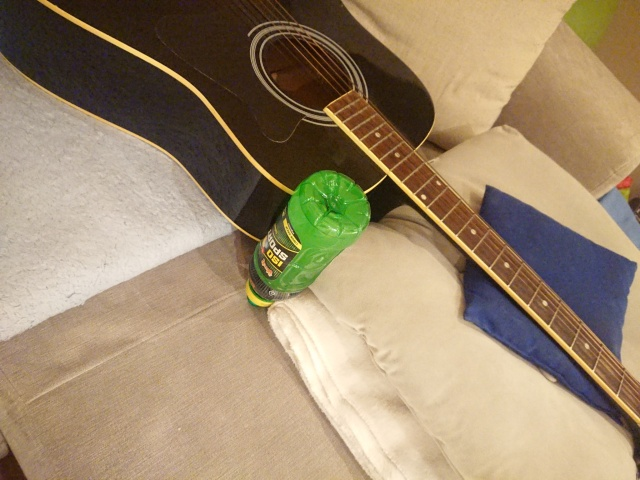Vindi Iso Sport Lemon-Grapefruit 500mL: (242, 167, 374, 311)
